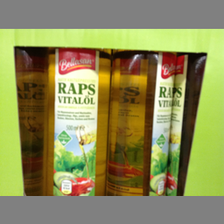oil: (106, 50, 178, 195), (41, 48, 112, 195)
